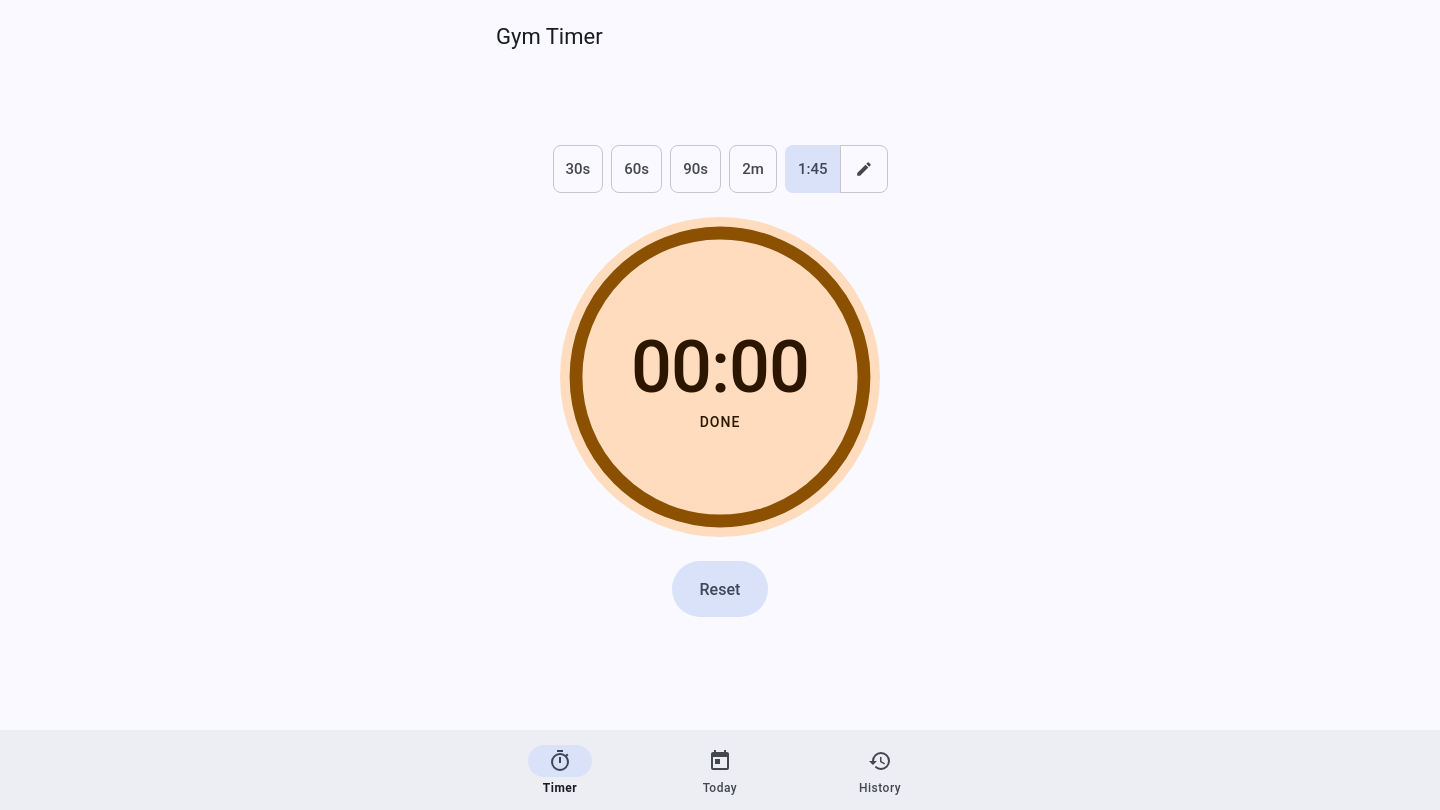
it: custom time starts, then its chip restarts it in one tap after done
This screenshot has width=1440, height=810.
Earlier steps of the test are not shown.
Later steps or results of the test are not shown.
Expected: the text "Done" is shown, [700,414,740,430]
Step 1. Click the button "1:45" → (813, 169), box [785,145,840,193]
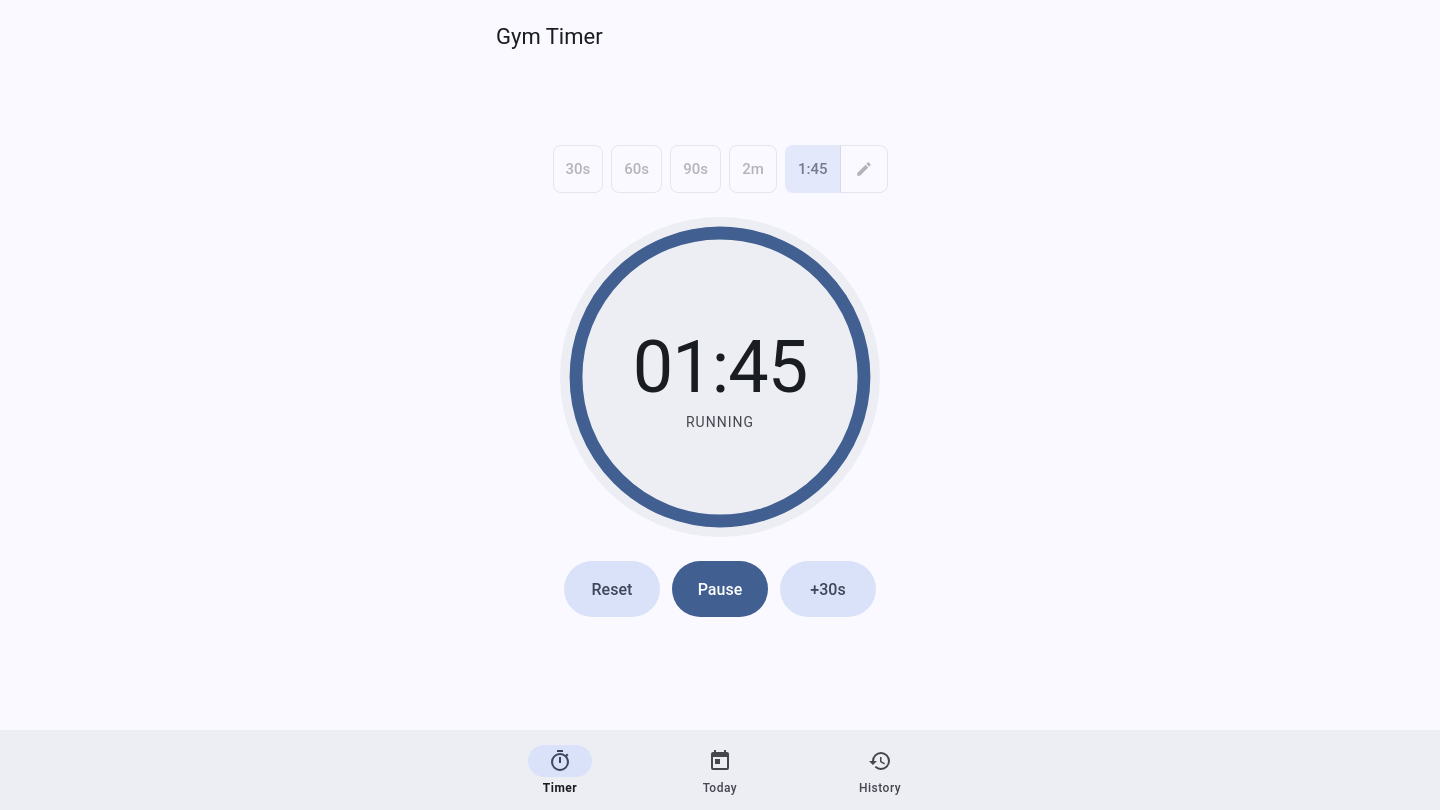
Expected: the label labelled "Time (m:ss)" is not shown
Expected: the text "01:45" is shown, [633,324,807,410]
Expected: the button "Pause" is shown, [672,561,768,617]
Step 2. Click the button "Reset" → (612, 589), box [564,561,660,617]
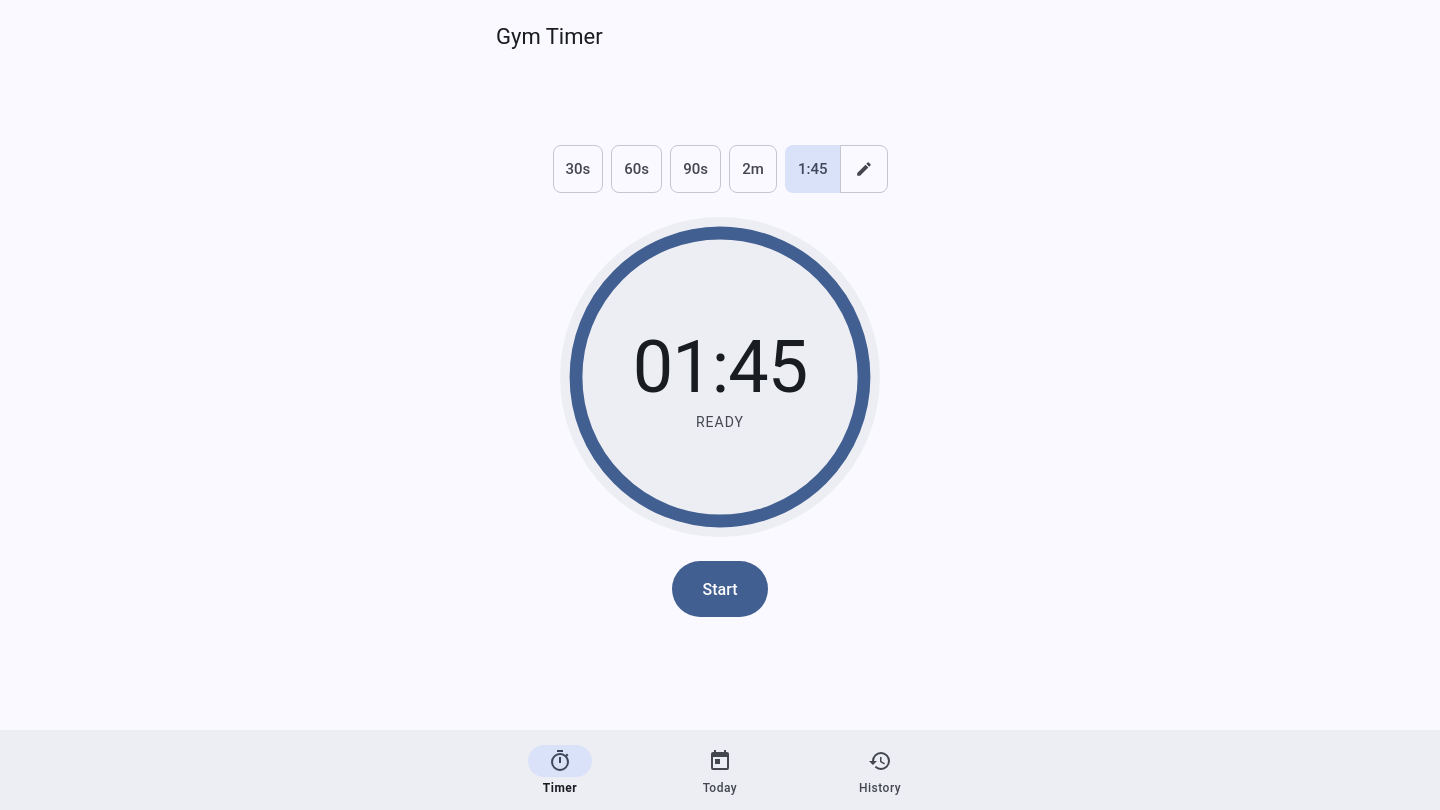
Step 3. Click the button "60s" → (637, 169), box [611,145,662,193]
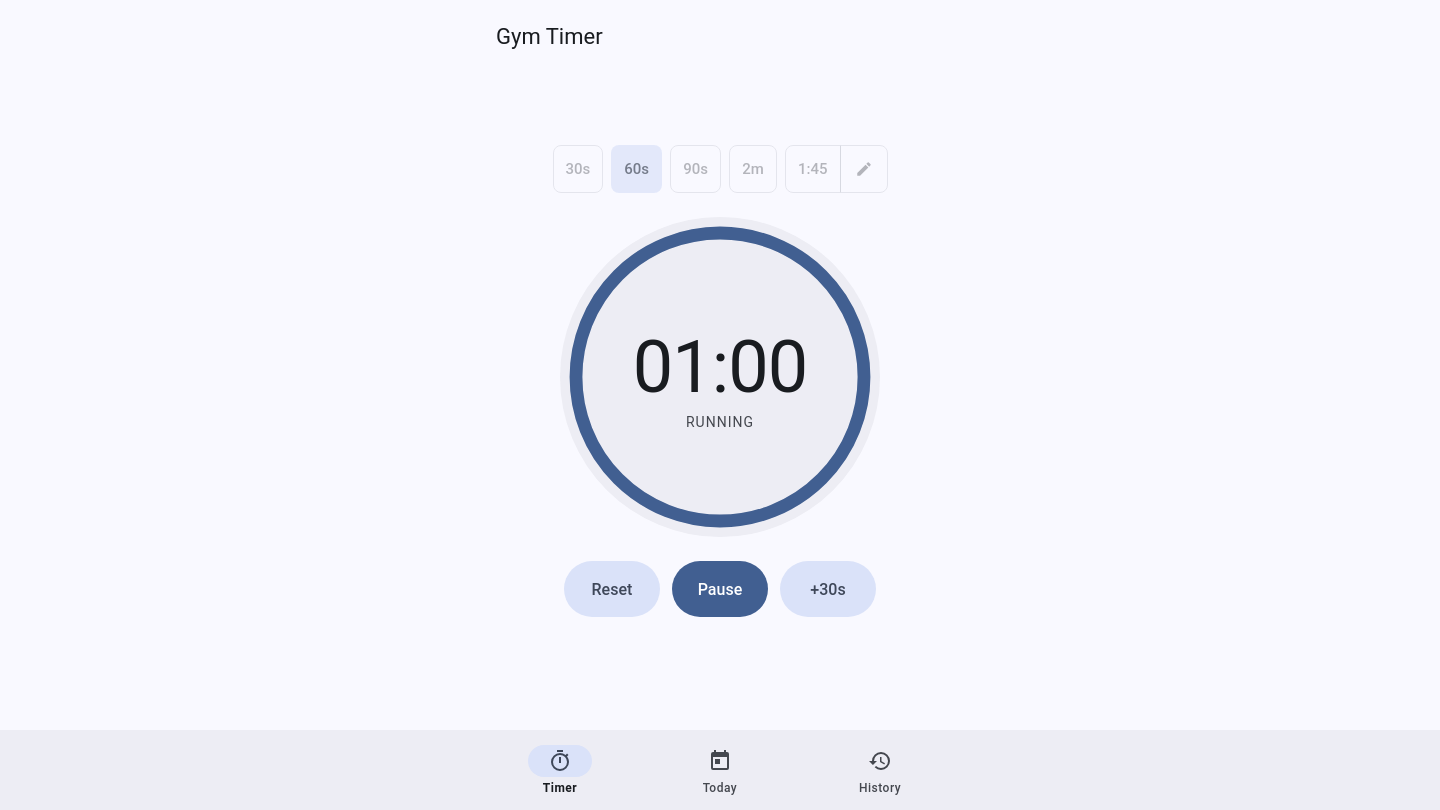
Step 4. Click the button "Reset" → (612, 589), box [564,561,660,617]
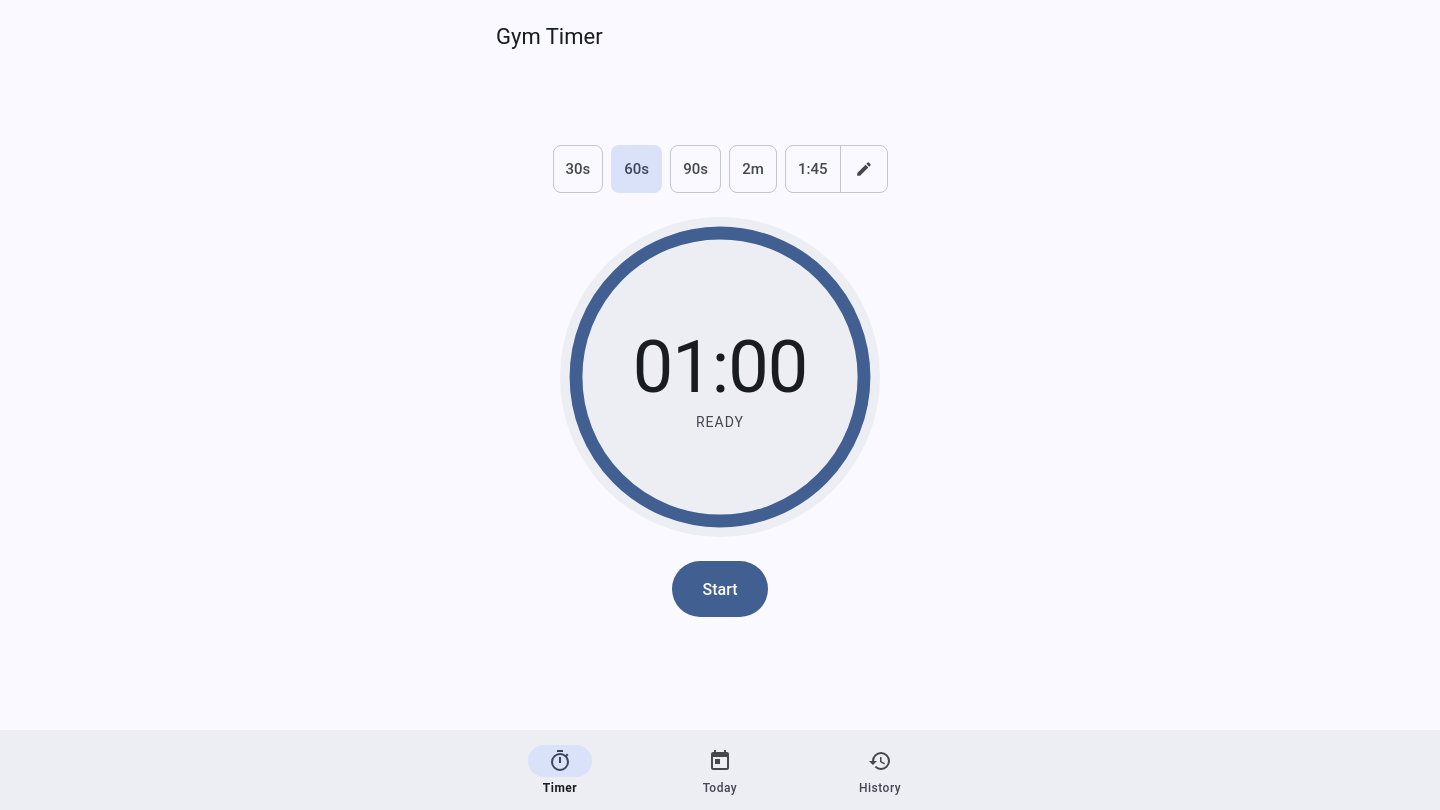
Expected: the button "1:45" is not pressed, [785,145,840,193]
Step 5. Click the button named "Edit custom time" → (864, 169), box [840,145,888,193]
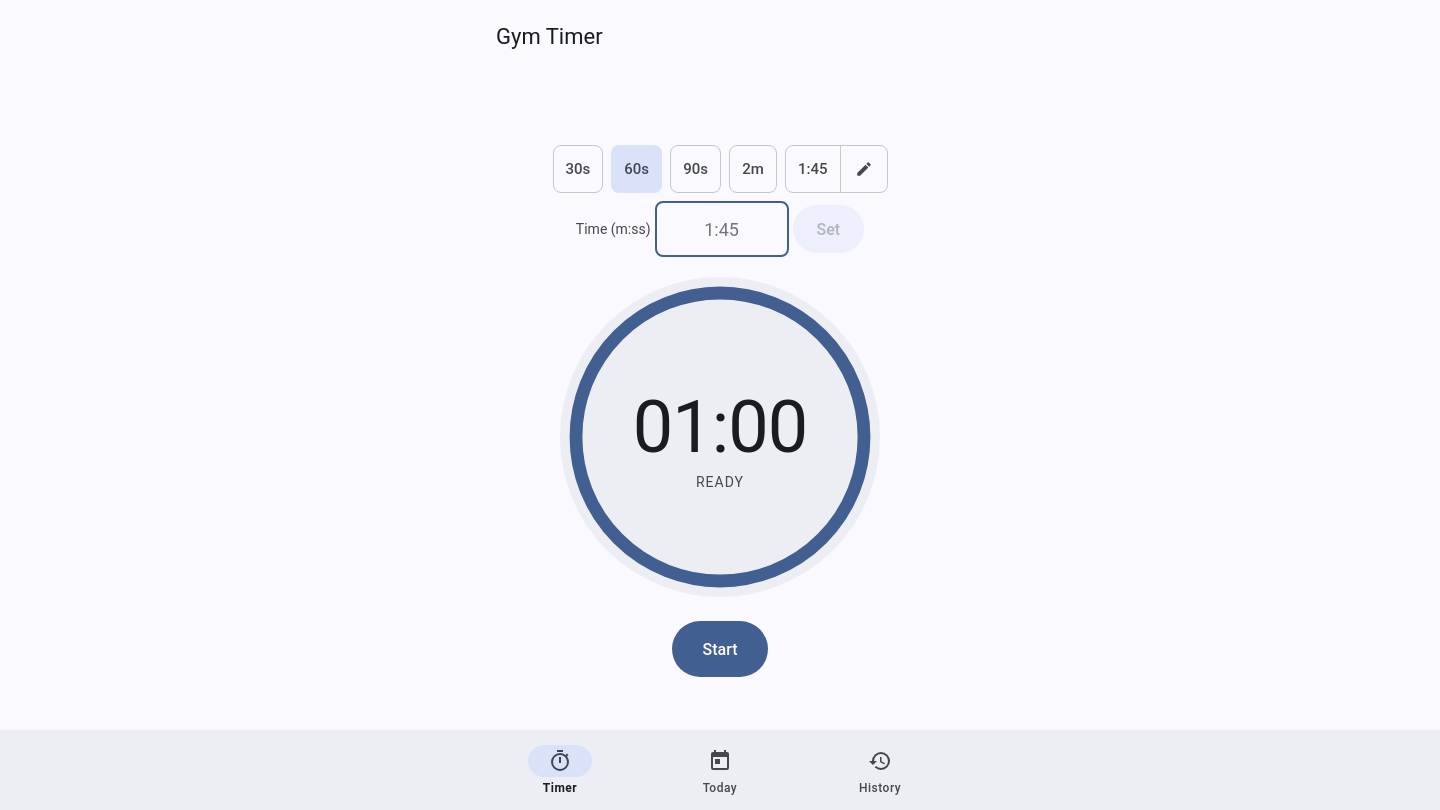
Step 6. Type "0:40" into the field labelled "Time (m:ss)" → (722, 229), box [659,205,785,253]
Step 7. Click the button "Set" → (828, 229), box [793,205,864,253]
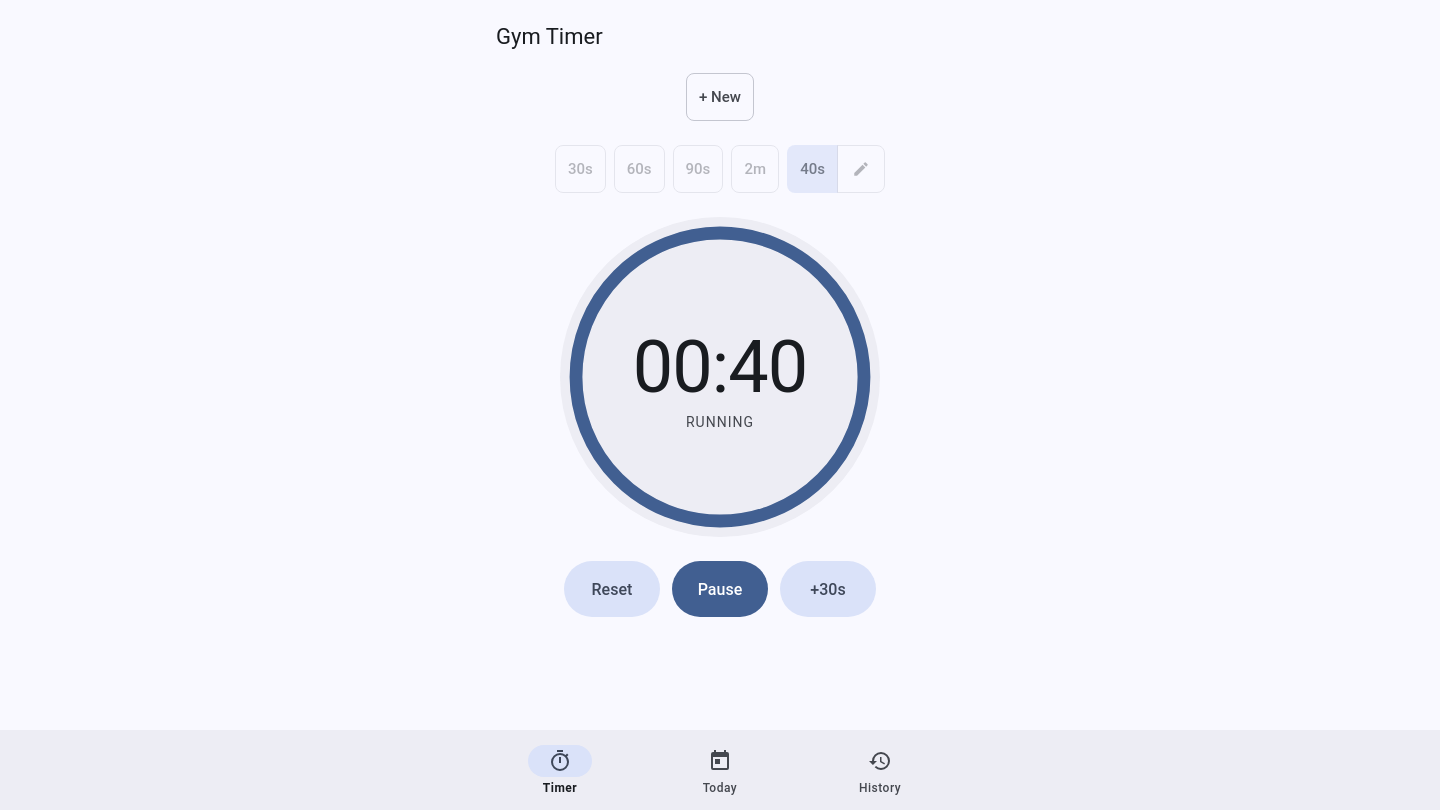
Expected: the text "00:40" is shown, [633,324,807,410]
Expected: the button "1:45" is gone
